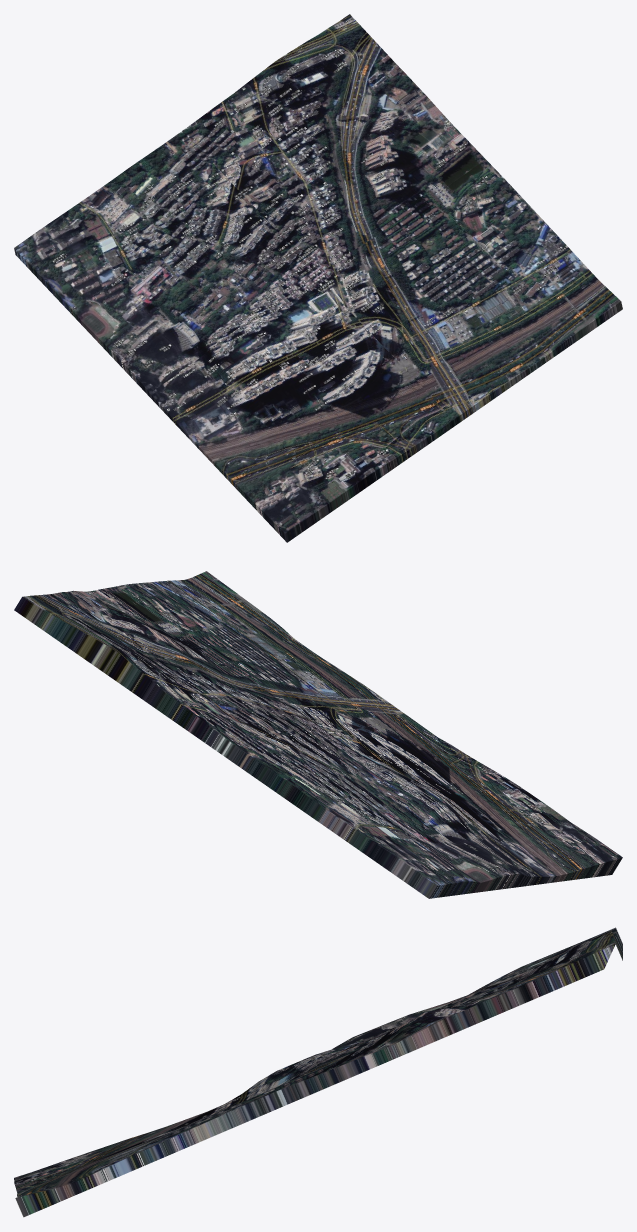
3 renders of one model, top to bottom at view 1: azimuth 30°, elevation 25°; view 2: azimuth 150°, elevation 25°; view 3: azimuth 270°, elevation 25°, orthographic. The views are drawn at different scales.
Parts seen in each view (by area): view 1: 1_3_14; view 2: 1_3_14; view 3: 1_3_14.
Part boxes in pixels (<box>): 1_3_14: <box>14,14,622,542</box>; 1_3_14: <box>14,571,622,898</box>; 1_3_14: <box>14,927,622,1217</box>.
Size of the model in its own units: 1235 by 914 by 1137.
1 material, 1 textured.
